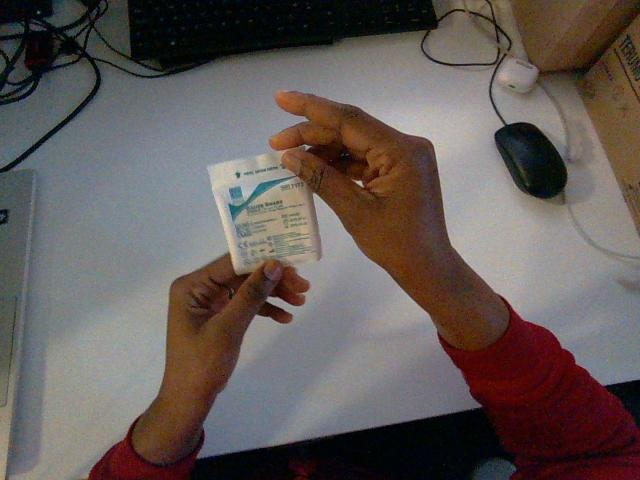gauze: (208, 152, 320, 274)
